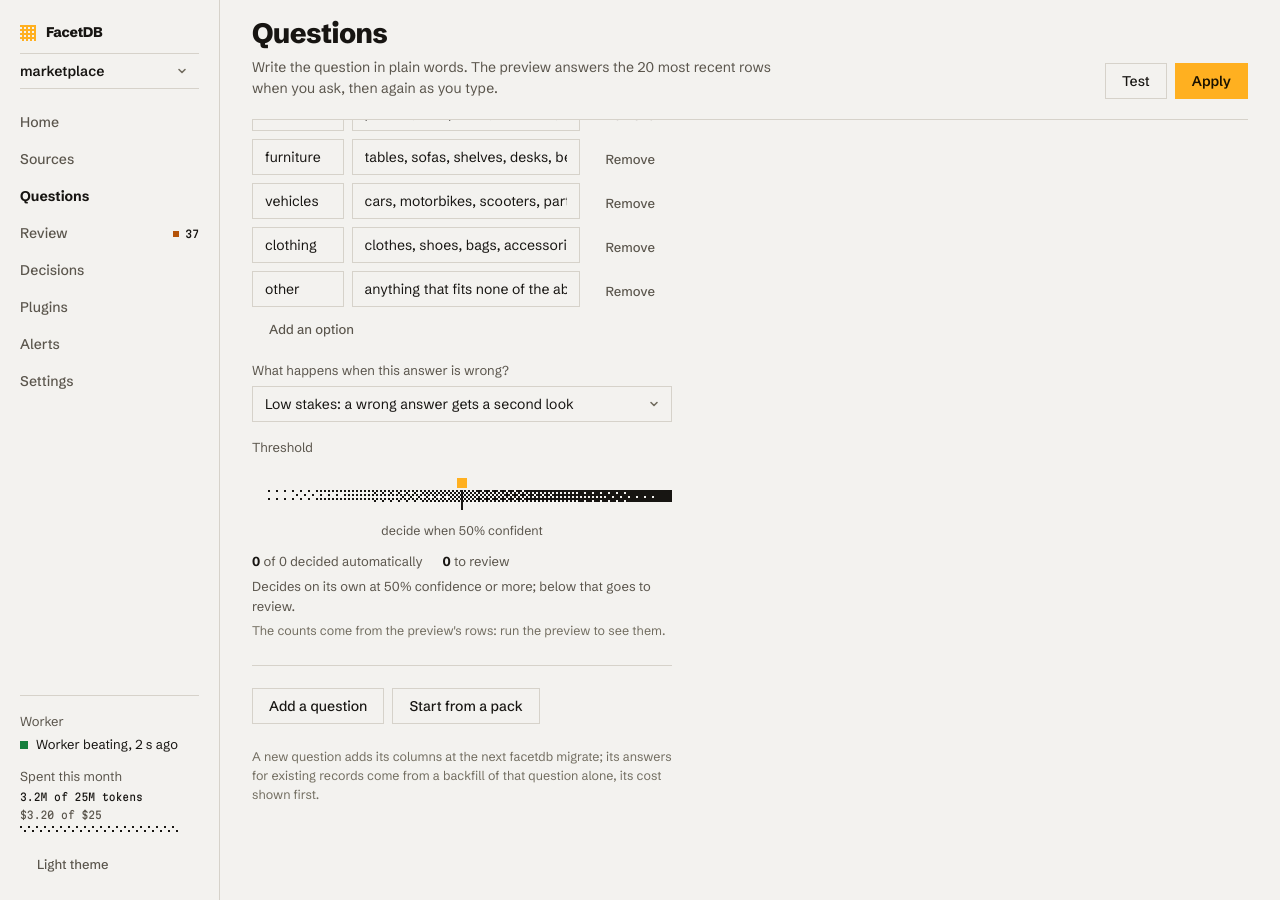
Scenario: Start from a pack: the list › lists the installed packs by name and first sentence, none chosen, the confirm disabled until one is
The image size is (1280, 900).
(page scrolled)
Click the button "Start from a pack". click: (466, 706)
box: left=392, top=688, right=540, bottom=724
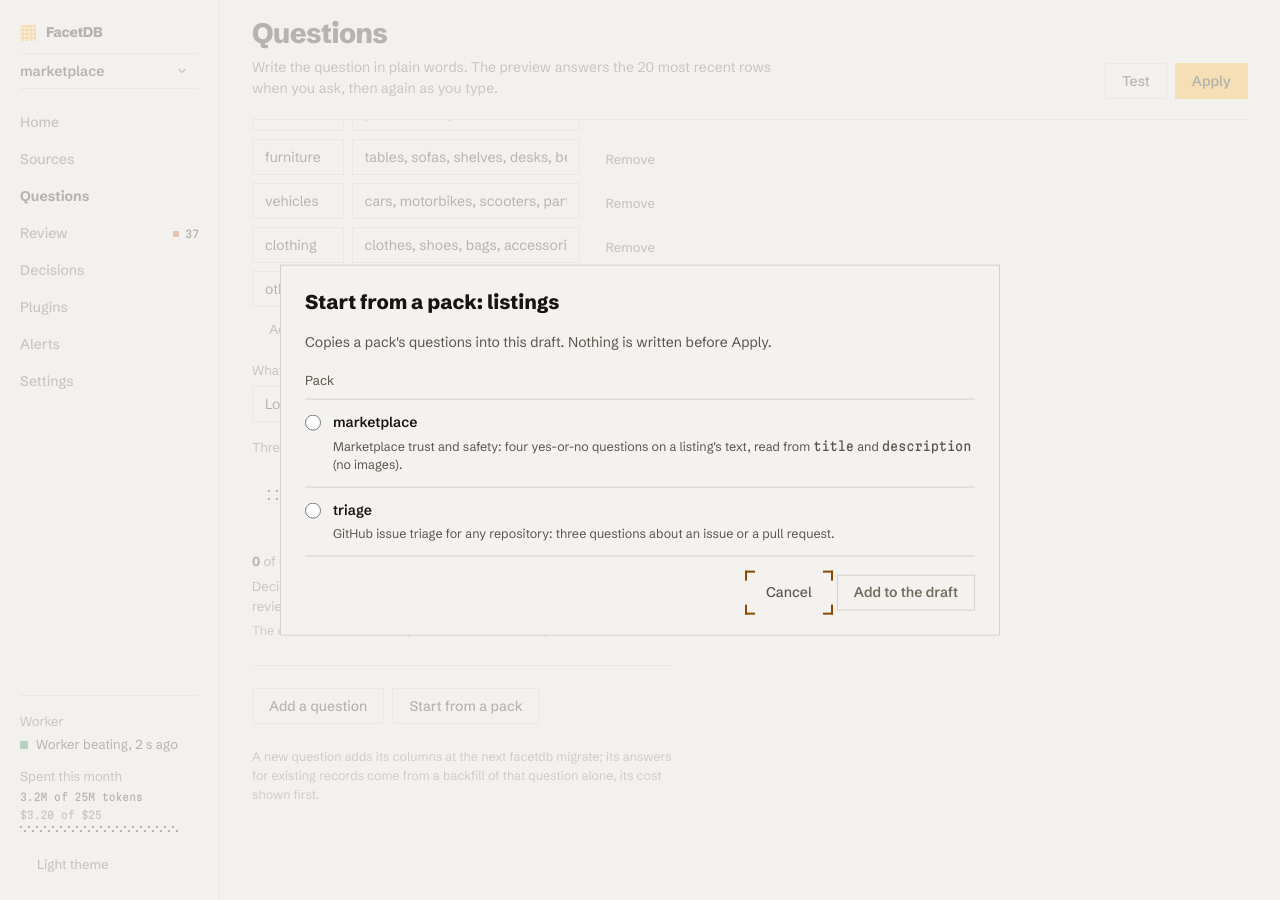
Now the text "title" is shown, box left=813, top=437, right=854, bottom=453
Now the button "Add to the draft" is disabled, box left=837, top=574, right=975, bottom=610
